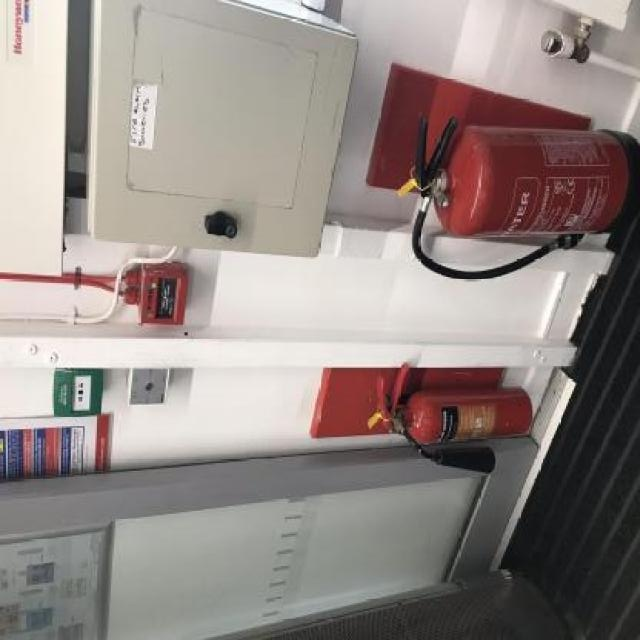fire extinguisher: (411, 115, 629, 282), (377, 365, 534, 475)
